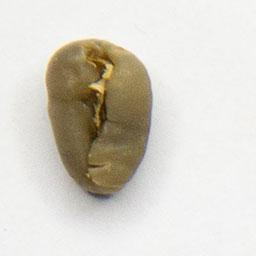peaberry: (42, 35, 160, 200)
